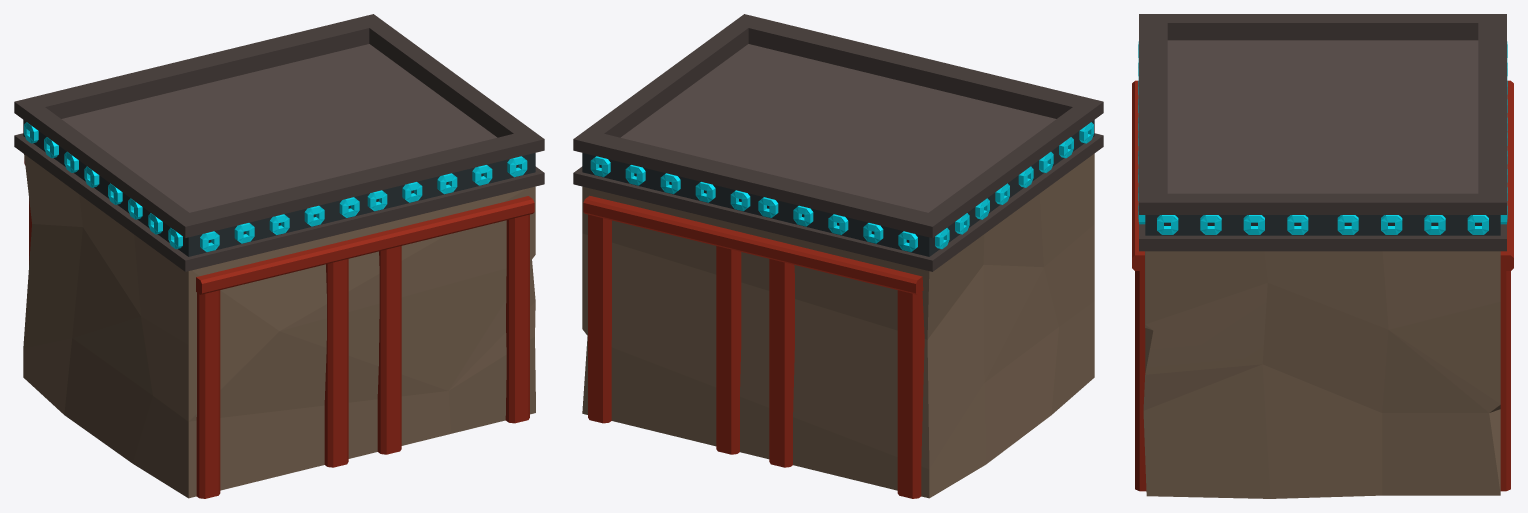
The model's file is Building_4.fbx.
3 renders of one model, left to right at view 1: azimuth 30°, elevation 25°; view 2: azimuth 150°, elevation 25°; view 3: azimuth 270°, elevation 25°, orthographic. The views are drawn at different scales.
Visible parts, largest first — view 1: Building_4; view 2: Building_4; view 3: Building_4.
Boxes of the visible parts, bbox=[...] form: Building_4: bbox=[14, 14, 544, 498]; Building_4: bbox=[573, 14, 1103, 498]; Building_4: bbox=[1132, 14, 1513, 498].
Bounding box in the file's own units: 3.1 × 2.26 × 2.64.
